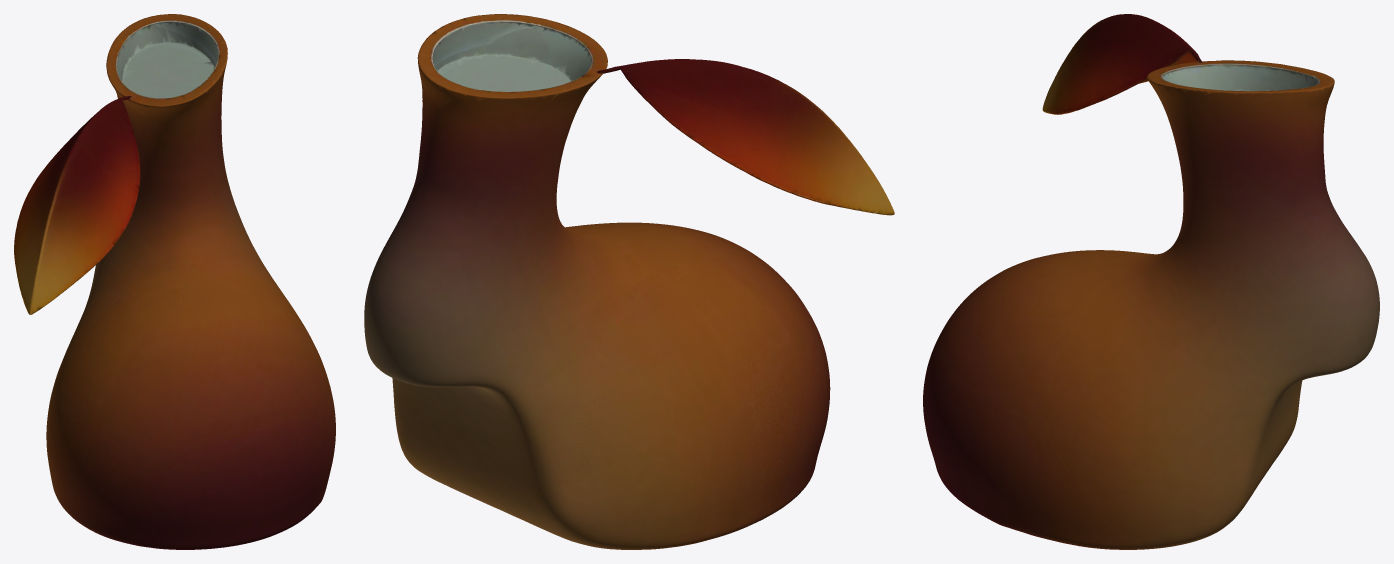
The model's file is zshonz-shoe.glb.
3 renders of one model, left to right at view 1: azimuth 30°, elevation 25°; view 2: azimuth 150°, elevation 25°; view 3: azimuth 270°, elevation 25°, orthographic. The views are drawn at different scales.
Parts seen in each view (by area): view 1: tripo_node_d17cbb71-f908-40d1-b51d-189a712de468; view 2: tripo_node_d17cbb71-f908-40d1-b51d-189a712de468; view 3: tripo_node_d17cbb71-f908-40d1-b51d-189a712de468.
Part boxes in pixels (<box>): tripo_node_d17cbb71-f908-40d1-b51d-189a712de468: <box>14,14,335,549</box>; tripo_node_d17cbb71-f908-40d1-b51d-189a712de468: <box>364,14,894,549</box>; tripo_node_d17cbb71-f908-40d1-b51d-189a712de468: <box>923,14,1379,549</box>.
Size of the model in its own units: 0.8675 by 0.9998 by 0.9327.
1 material, 1 textured.
